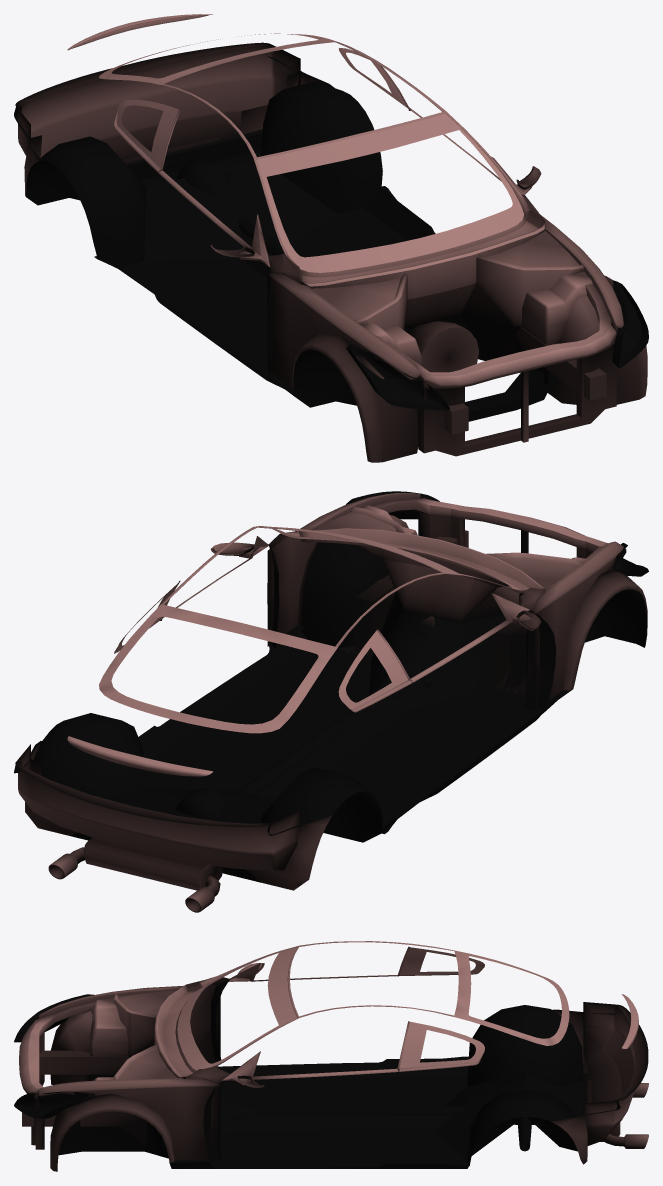
Rendered from G37_Chassis_Trim.fbx.
3 views of the same model, one above another, from view 1: azimuth 30°, elevation 25°; view 2: azimuth 150°, elevation 25°; view 3: azimuth 270°, elevation 25° (orthographic). The views are drawn at different scales.
Parts seen in each view (by area): view 1: G37_Chassis_Trim; view 2: G37_Chassis_Trim; view 3: G37_Chassis_Trim.
Boxes of the visible parts, x1,y1,x2,y2 form: G37_Chassis_Trim: [14, 14, 648, 462]; G37_Chassis_Trim: [14, 491, 648, 912]; G37_Chassis_Trim: [14, 941, 648, 1171].
Bounding box in the file's own units: 200 × 117 × 438.
